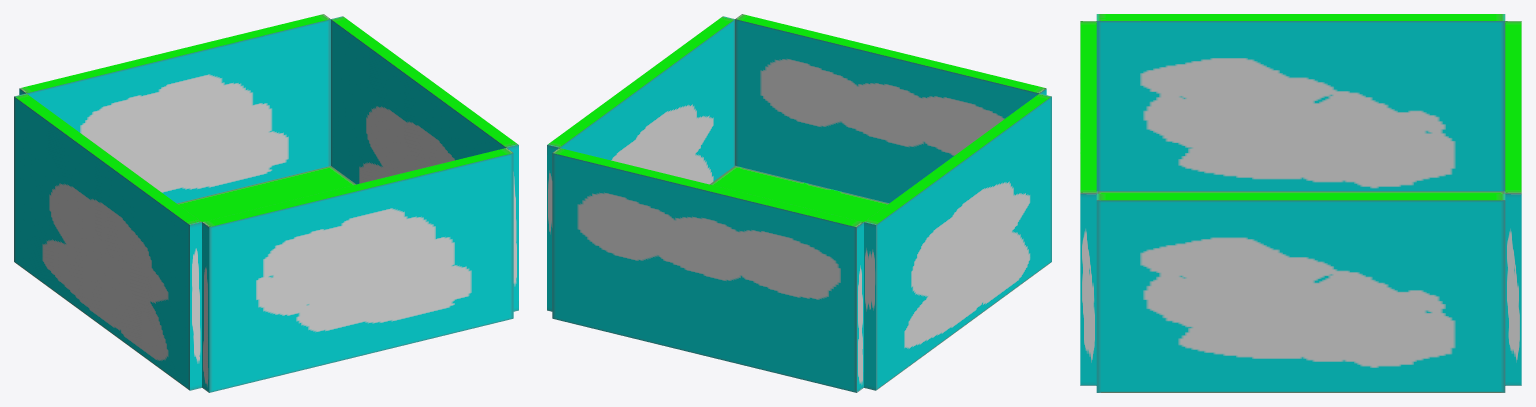
Rendered from ButtleStage.fbx.
The picture shows the model from 3 angles, left to right: view 1: azimuth 30°, elevation 25°; view 2: azimuth 150°, elevation 25°; view 3: azimuth 270°, elevation 25°; orthographic projection. The views are drawn at different scales.
Visible parts, largest first — view 1: pCube6; view 2: pCube6; view 3: pCube6.
Part boxes in pixels (x1=…): pCube6: x1=14, y1=14, x2=518, y2=392; pCube6: x1=547, y1=14, x2=1051, y2=392; pCube6: x1=1080, y1=14, x2=1521, y2=392.
Size of the model in its own units: 27 by 13 by 27.
1 material, 1 textured.
